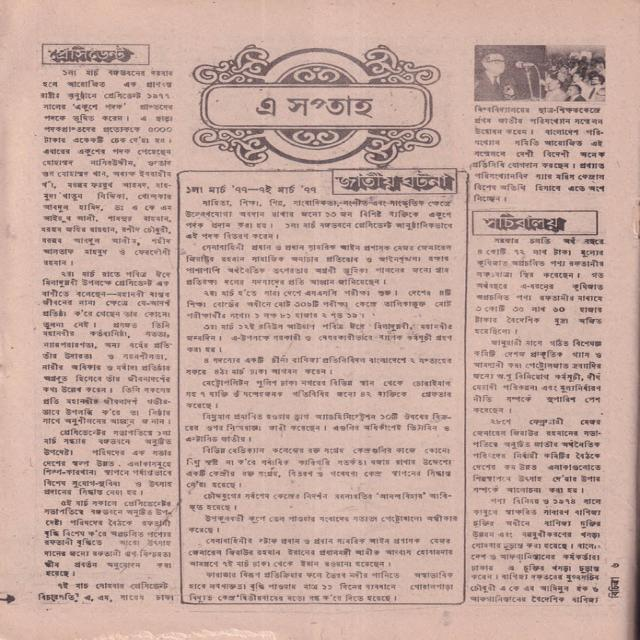image: (194, 45, 439, 166), (474, 46, 605, 101)
page number: (608, 561, 622, 571)
paragraph: (34, 65, 179, 268), (33, 268, 173, 428), (176, 175, 461, 241), (465, 495, 606, 606), (469, 235, 610, 337), (470, 104, 609, 205), (179, 443, 457, 493), (182, 240, 459, 288), (38, 497, 178, 580), (468, 337, 605, 417), (468, 415, 603, 496), (179, 376, 456, 413), (179, 533, 456, 570), (37, 426, 178, 498), (180, 569, 459, 605), (179, 409, 455, 445), (184, 286, 457, 321), (183, 320, 459, 354), (182, 508, 461, 537), (175, 352, 459, 377), (179, 489, 459, 514), (31, 578, 179, 607)
text: (605, 575, 623, 603)
title: (255, 88, 373, 125), (332, 169, 458, 195), (473, 211, 597, 235), (38, 43, 146, 64)
